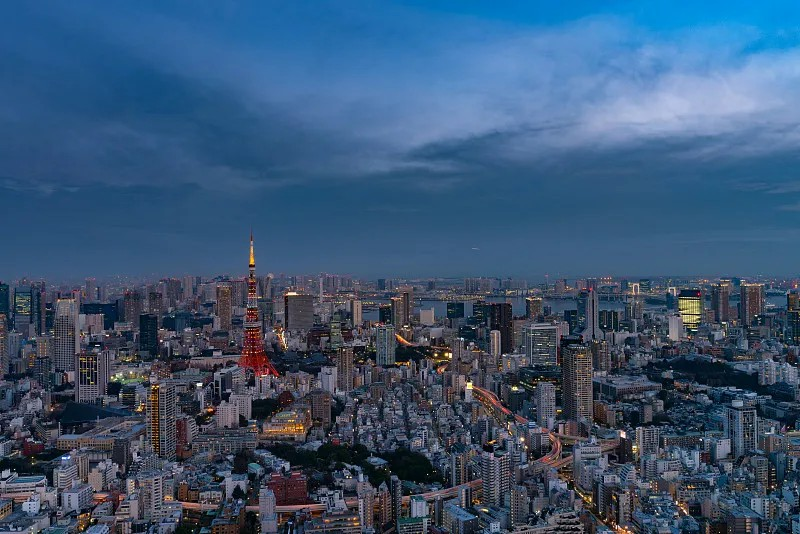Tokyo: (237, 222, 280, 379)
